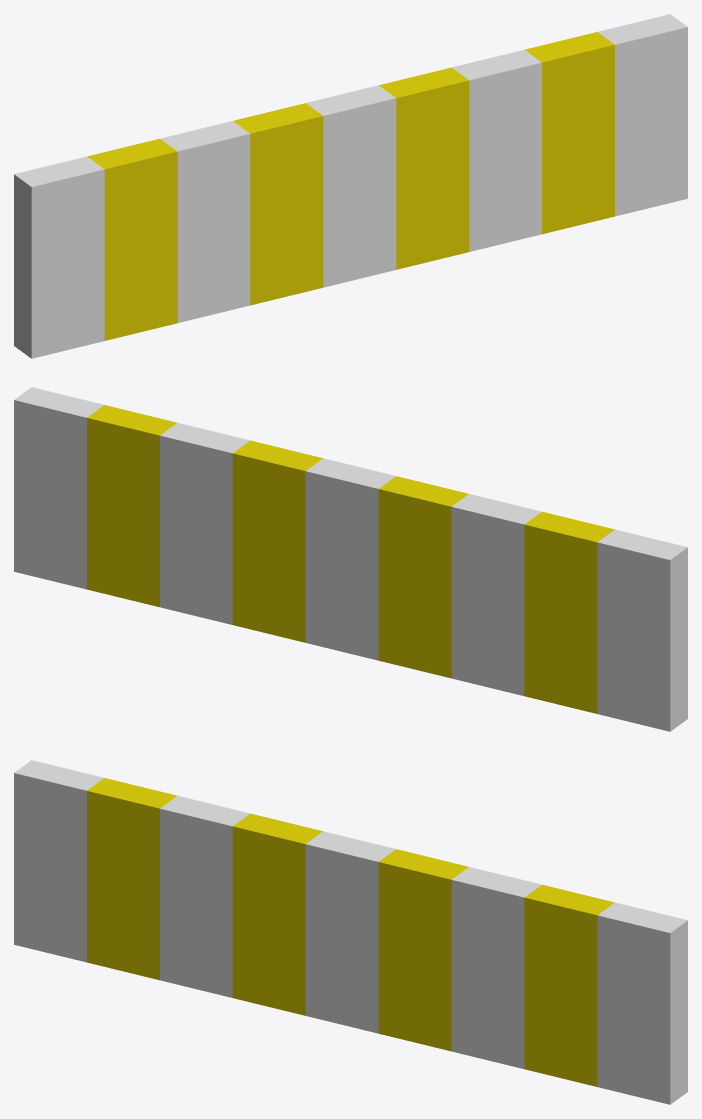
File: HighBarrier.fbx
The picture shows the model from 3 angles, top to bottom: view 1: azimuth 30°, elevation 25°; view 2: azimuth 150°, elevation 25°; view 3: azimuth 330°, elevation 25°; orthographic projection.
Parts seen in each view (by area): view 1: Cube; view 2: Cube; view 3: Cube.
Boxes of the visible parts, x1,y1,x2,y2 form: Cube: (14, 14, 687, 358); Cube: (14, 387, 687, 731); Cube: (14, 760, 687, 1104).
Size of the model in its own units: 800 by 200 by 37.3.
